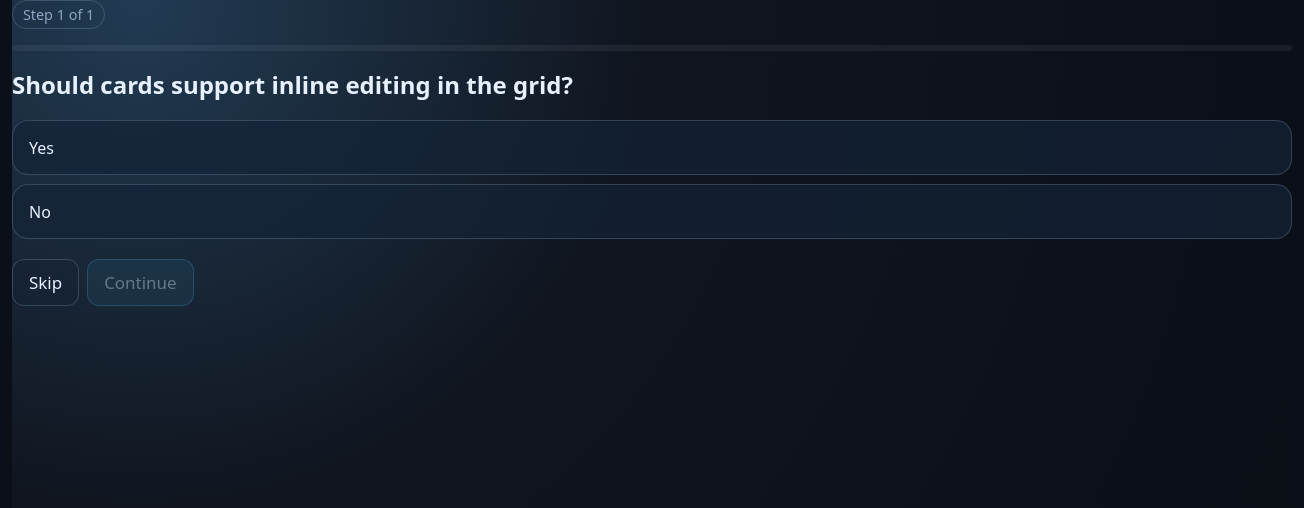
Test: RefinementSection › shows completion instead of reopening the same question when local answers are ahead of the unresolved count
Click the button "Yes" at (41, 148), box x1=12 y1=120 x2=1292 y2=175
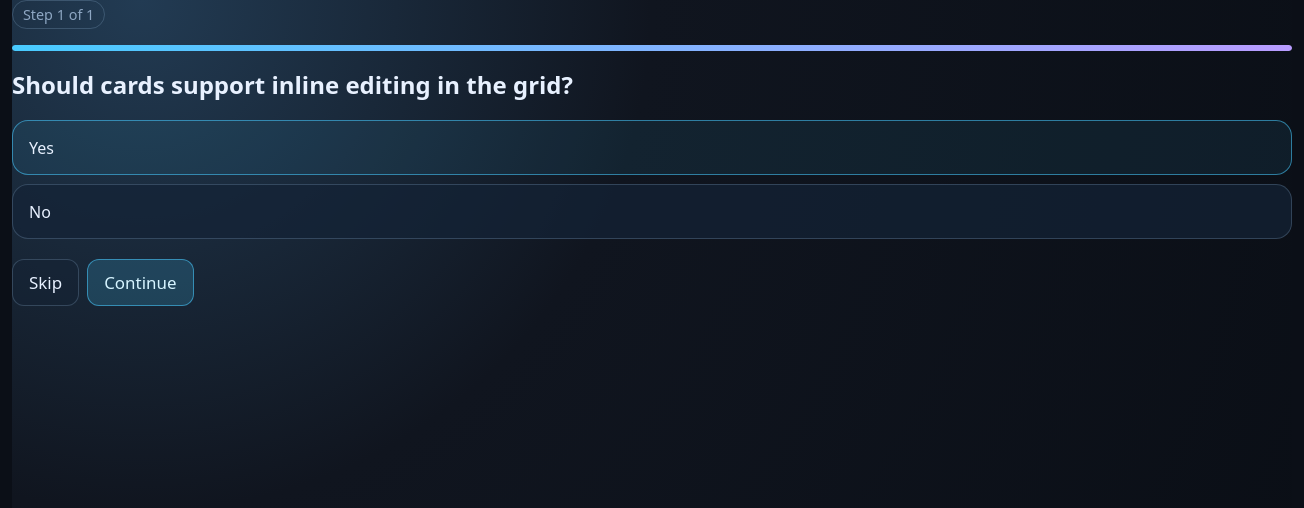
Click the button "Continue" at (140, 282), box x1=87 y1=259 x2=194 y2=306
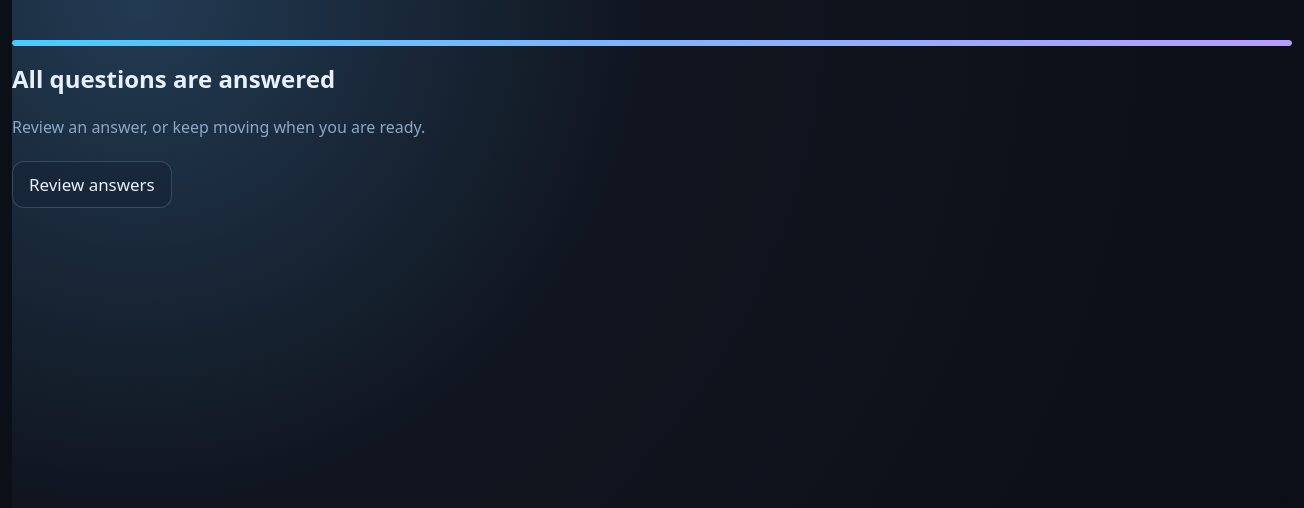
Expected: the heading "All questions are answered" is shown, x1=12 y1=62 x2=335 y2=95
Expected: the heading "Should cards support inline editing in the grid?" is gone
